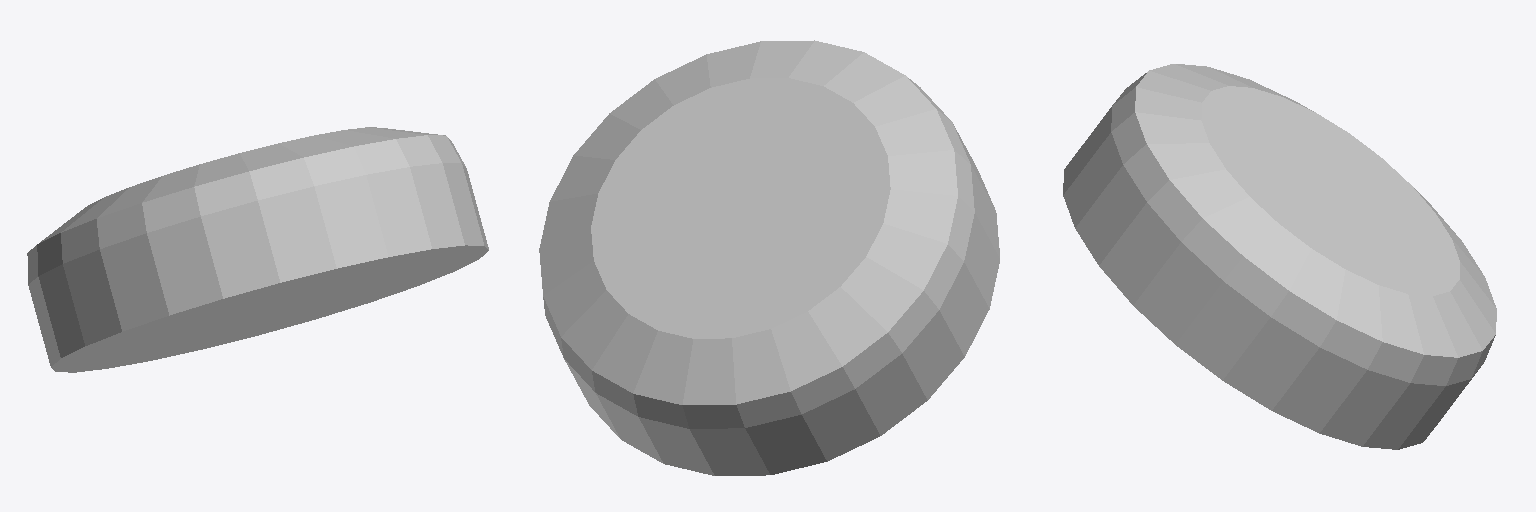
File: button_x.obj
3 views of the same model, side by side, from view 1: azimuth 30°, elevation 25°; view 2: azimuth 150°, elevation 25°; view 3: azimuth 270°, elevation 25° (orthographic).
Parts seen in each view (by area): view 1: l_button_x; view 2: l_button_x; view 3: l_button_x.
Boxes of the visible parts, <box> form: l_button_x: <box>27,127,488,372</box>; l_button_x: <box>539,40,999,475</box>; l_button_x: <box>1063,64,1496,449</box>.
Size of the model in its own units: 0.01 by 0.0077 by 0.0096.